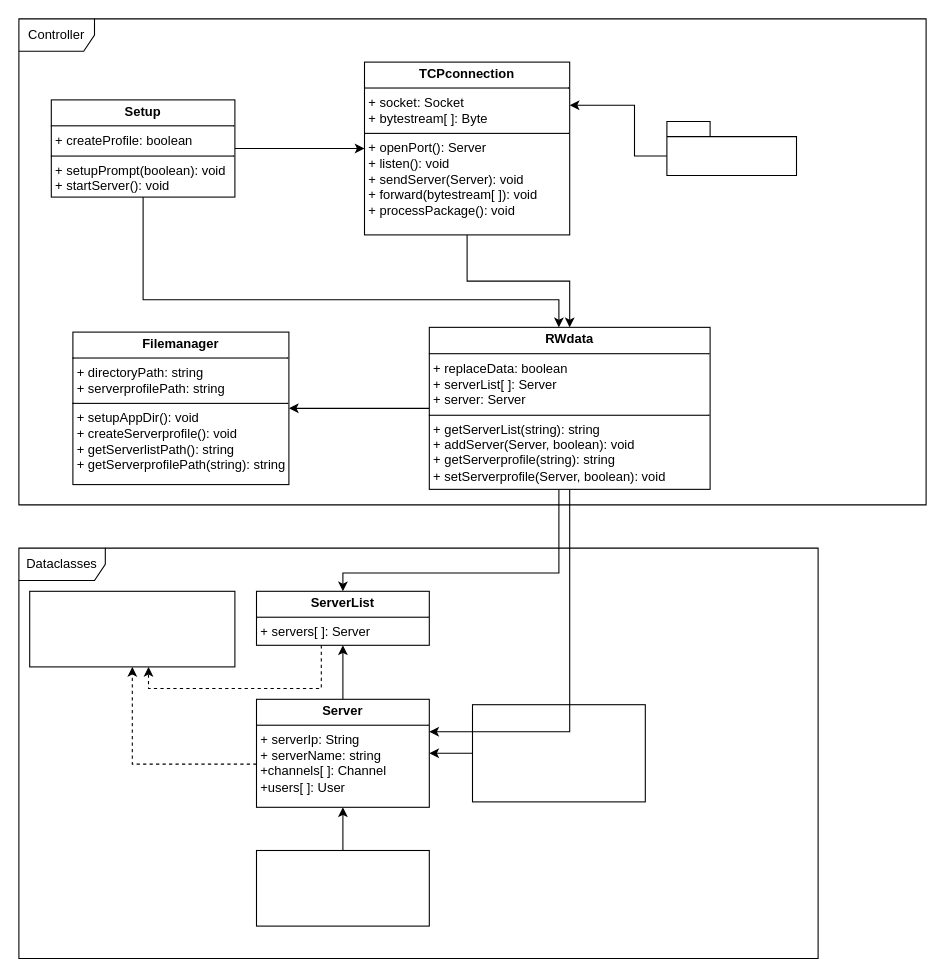
This 945x977 diagram has some shape labels left out. The centre of each missing label's shape, as x and y in pixels:
"<<Interface>> ISendable + ToJson(): string" belongs at point 132,628.
"Channel + channelId: int + channelName: string + channelDescription: string" belongs at point 558,753.
"System.Net.Sockets" belongs at point 731,148.
"User + userName: string + userJoinDate: DateTime" belongs at point 342,887.
